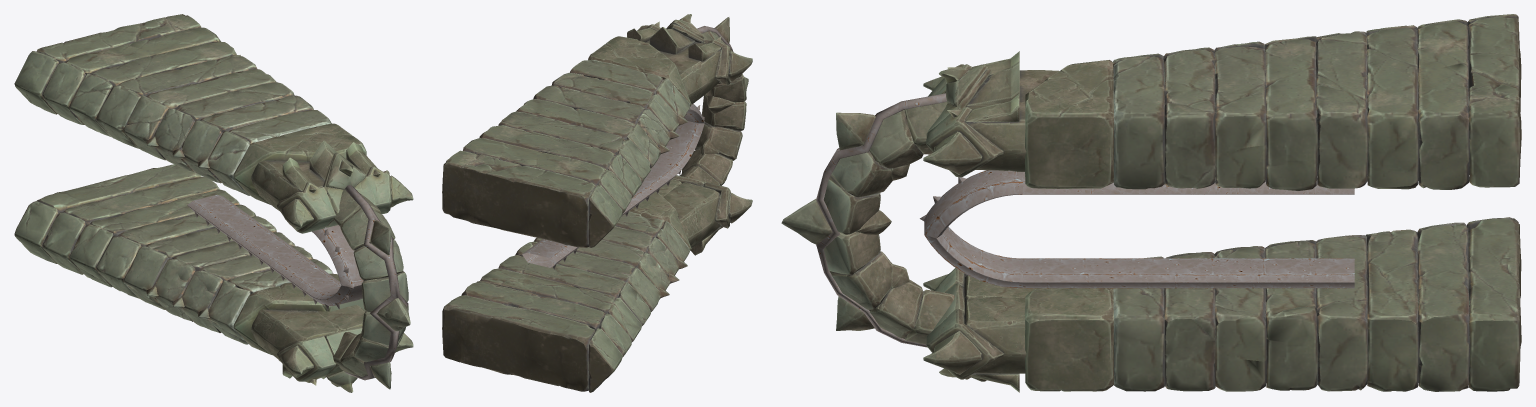
Rendered from Dam_MasterAlcove_A.fbx.
3 views of the same model, side by side, from view 1: azimuth 30°, elevation 25°; view 2: azimuth 150°, elevation 25°; view 3: azimuth 270°, elevation 25° (orthographic). The views are drawn at different scales.
Parts seen in each view (by area): view 1: Dam_MasterAlcove_A; view 2: Dam_MasterAlcove_A; view 3: Dam_MasterAlcove_A.
Boxes of the visible parts, x1,y1,x2,y2 form: Dam_MasterAlcove_A: (14, 14, 413, 392); Dam_MasterAlcove_A: (442, 14, 752, 392); Dam_MasterAlcove_A: (781, 14, 1521, 392).
Size of the model in its own units: 1163 by 1420 by 2944.
